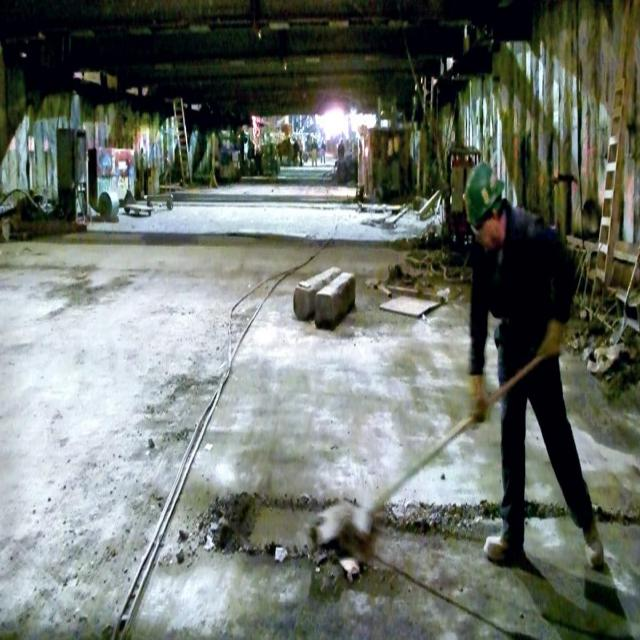Safety-Helmet: (457, 156, 510, 234)
